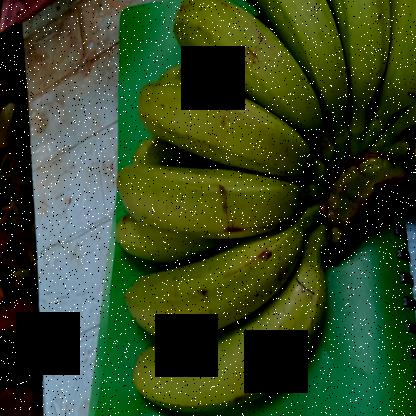freshunripe: (137, 245, 330, 416), (122, 230, 312, 346), (106, 158, 330, 236), (238, 1, 347, 121), (327, 1, 395, 120)
unripe: (132, 76, 330, 199), (172, 1, 321, 145), (379, 1, 415, 108)
